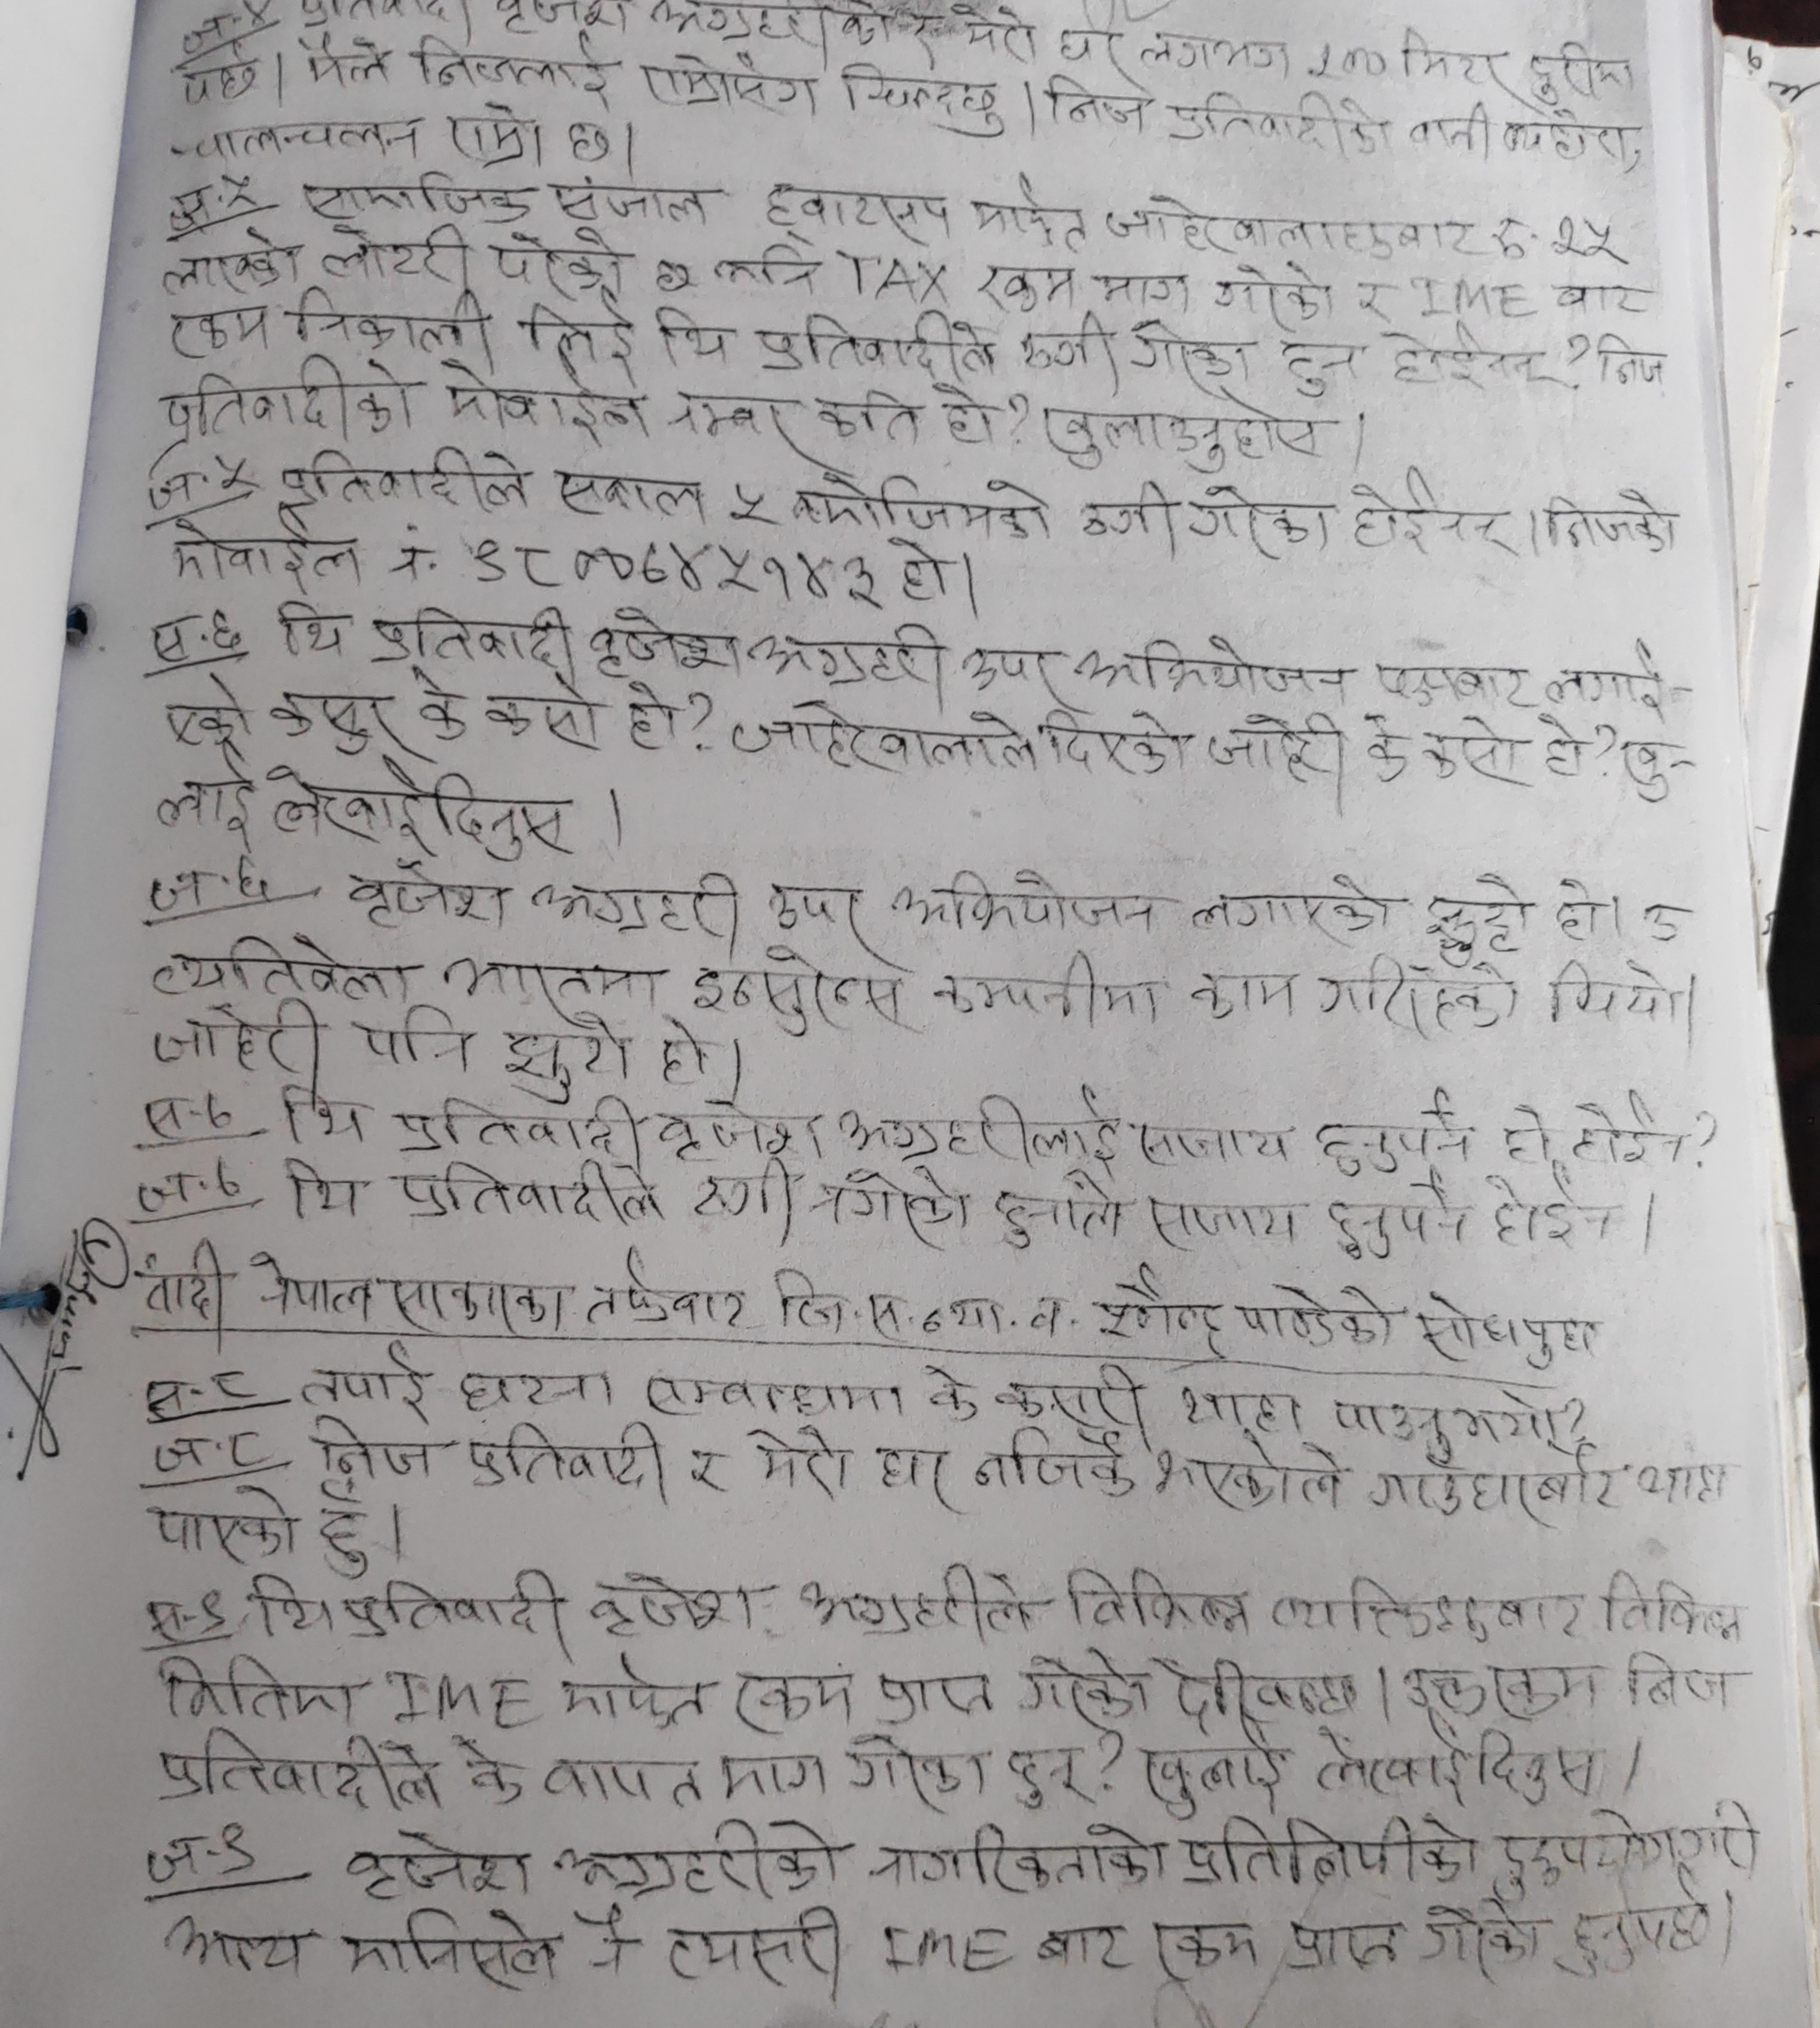text: (264, 752, 583, 866), (473, 532, 885, 610), (1309, 1713, 1597, 1807), (160, 353, 420, 455), (1495, 1796, 1766, 1893), (1105, 192, 1483, 258), (724, 694, 1042, 773), (149, 1724, 441, 1807), (1267, 1575, 1592, 1648), (555, 1817, 843, 1900), (775, 1262, 1066, 1343), (866, 1821, 1168, 1896), (1174, 1814, 1481, 1887), (1068, 626, 1354, 705), (687, 940, 912, 1037), (1040, 385, 1296, 469), (841, 1093, 1121, 1169), (785, 467, 1052, 543), (896, 865, 1156, 942), (149, 928, 422, 1002), (792, 1562, 1036, 1643), (397, 1160, 668, 1232), (434, 351, 650, 441), (1369, 1457, 1629, 1529), (752, 304, 1000, 380), (334, 1903, 560, 1986), (1316, 949, 1523, 1035), (933, 951, 1163, 1028), (341, 1568, 566, 1647), (460, 1416, 669, 1499), (278, 448, 532, 515), (397, 1095, 645, 1163), (662, 1903, 847, 1995), (1349, 464, 1521, 561), (1332, 1387, 1560, 1457), (527, 865, 743, 938), (437, 945, 669, 1014), (165, 517, 364, 596), (1314, 1086, 1479, 1181), (840, 54, 1010, 144), (1168, 88, 1397, 155), (583, 1244, 752, 1334), (415, 28, 617, 102), (1412, 1288, 1597, 1369), (1188, 870, 1400, 938), (752, 619, 954, 691), (1562, 1887, 1716, 1981), (1137, 1724, 1284, 1821), (292, 290, 494, 360), (343, 1826, 538, 1898), (1163, 1657, 1367, 1726), (365, 603, 573, 670), (638, 47, 824, 121), (156, 1654, 355, 1722), (153, 998, 323, 1077), (645, 1373, 905, 1423), (299, 169, 532, 225), (806, 1160, 971, 1239), (1321, 1170, 1476, 1255), (1065, 1566, 1254, 1634), (1379, 323, 1558, 395), (174, 116, 432, 165), (1202, 706, 1346, 794), (759, 176, 956, 239), (153, 1481, 300, 1564), (497, 1012, 627, 1105), (1154, 1429, 1291, 1517), (1235, 1281, 1402, 1353), (657, 1097, 836, 1163), (973, 1427, 1140, 1497), (587, 605, 743, 678), (587, 1571, 759, 1638), (1093, 1262, 1223, 1350), (1416, 1887, 1546, 1975), (1188, 482, 1333, 559), (318, 218, 478, 288), (1597, 1571, 1748, 1645), (385, 1274, 576, 1332), (344, 863, 508, 930), (993, 1170, 1126, 1251), (1395, 25, 1523, 107), (562, 1654, 704, 1727), (994, 1362, 1151, 1429), (849, 1727, 986, 1803), (480, 670, 604, 752), (1021, 1647, 1151, 1726), (490, 221, 632, 293), (246, 1246, 372, 1327), (149, 743, 258, 837), (165, 1910, 309, 1981), (1544, 634, 1669, 715), (1571, 1084, 1690, 1169), (1044, 705, 1186, 775), (970, 170, 1087, 255), (299, 1343, 436, 1415), (1549, 958, 1683, 1032), (553, 462, 713, 524), (538, 1750, 701, 1810), (267, 684, 406, 754), (158, 228, 304, 295), (1426, 870, 1528, 963), (1490, 1170, 1614, 1246), (309, 1411, 439, 1483), (455, 1360, 620, 1416), (1126, 315, 1254, 387), (362, 1000, 480, 1076), (1214, 260, 1337, 332), (1546, 490, 1681, 555), (552, 174, 724, 225), (1370, 659, 1535, 712), (524, 293, 643, 366), (1147, 1195, 1298, 1251), (689, 1156, 799, 1232), (135, 1239, 230, 1327), (1135, 1119, 1296, 1170), (1151, 1919, 1263, 1991), (668, 385, 798, 446), (1421, 713, 1523, 791), (731, 1669, 857, 1731), (747, 1425, 850, 1497), (1525, 42, 1646, 104), (875, 1445, 968, 1524), (1042, 67, 1149, 135), (1019, 313, 1121, 385), (812, 385, 929, 446), (1500, 109, 1629, 165), (1080, 478, 1174, 554), (246, 1571, 341, 1645), (448, 97, 546, 167), (1490, 213, 1630, 262), (158, 671, 255, 742), (1623, 1654, 1739, 1712), (1140, 32, 1291, 76), (279, 1079, 378, 1146), (711, 239, 822, 297), (293, 30, 394, 93), (1005, 1740, 1093, 1812), (975, 258, 1080, 318), (1491, 1662, 1593, 1724), (717, 1749, 831, 1803), (278, 1153, 367, 1221), (764, 879, 866, 938), (165, 304, 279, 357), (1036, 1923, 1124, 1991), (880, 1671, 993, 1724), (1188, 970, 1296, 1023), (957, 638, 1052, 698), (318, 1485, 378, 1580), (1288, 1923, 1400, 1972), (179, 44, 262, 111), (655, 302, 740, 367), (884, 536, 954, 610), (1279, 336, 1363, 397), (457, 1735, 525, 1810), (1588, 332, 1674, 392), (1398, 1664, 1486, 1722), (274, 596, 351, 661), (1407, 104, 1493, 162), (924, 380, 994, 450), (1634, 1457, 1730, 1508), (571, 1905, 634, 1981), (415, 666, 467, 750), (622, 678, 682, 752), (1094, 267, 1195, 311), (1305, 40, 1391, 86), (922, 1360, 982, 1425), (1555, 872, 1602, 952), (1549, 279, 1648, 316), (659, 1023, 715, 1086), (1363, 713, 1411, 787), (1497, 1107, 1555, 1167), (1535, 713, 1588, 779), (385, 522, 436, 587), (726, 473, 780, 532), (559, 116, 617, 170), (689, 1438, 731, 1496), (648, 250, 697, 299), (1643, 900, 1690, 945), (1356, 279, 1395, 325)
